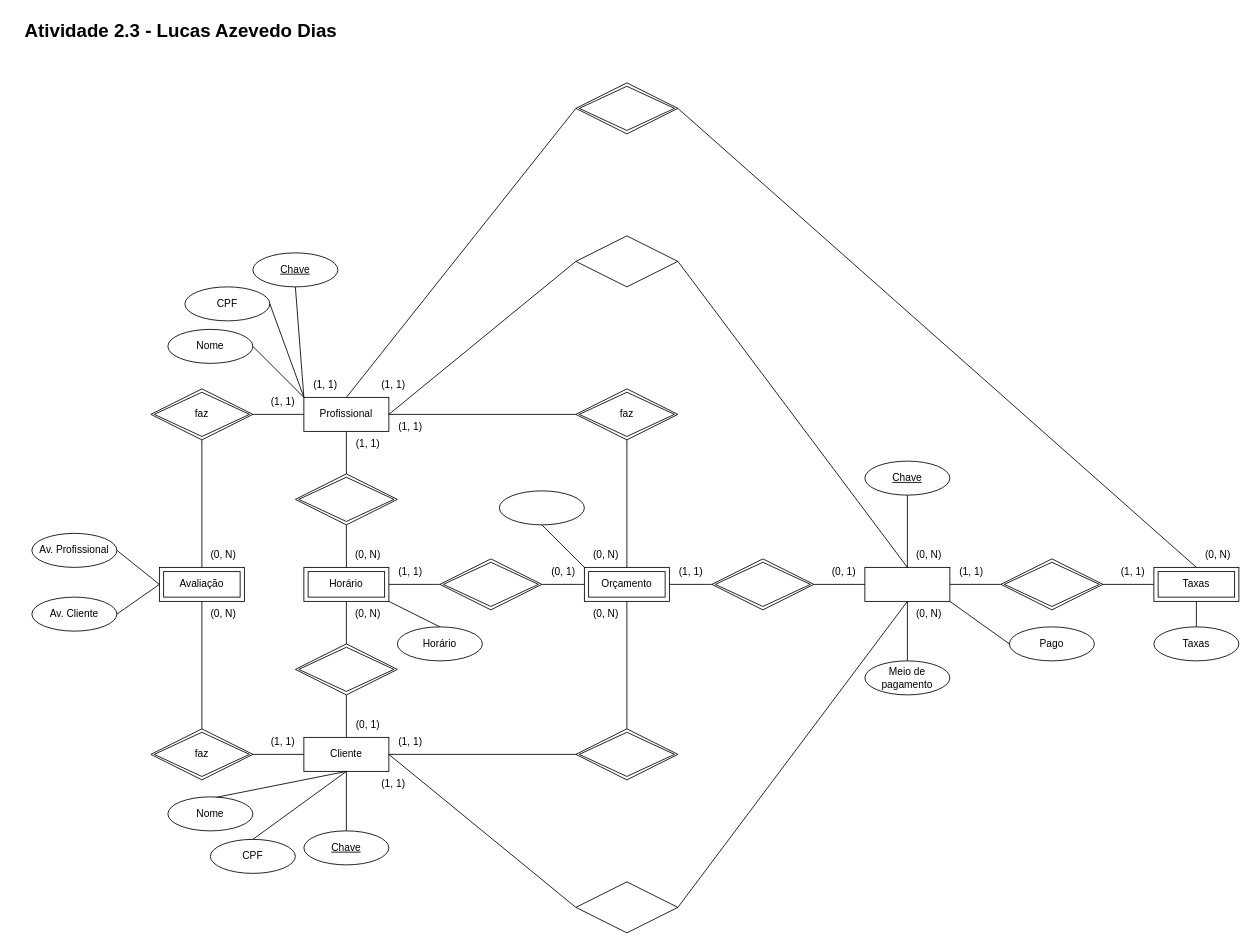
This 1254x948 diagram has some shape labels left out. Here are the shapes that lost their labels. From the top down, the box of each, then its label:
(575, 82, 678, 134): paga
(575, 235, 678, 287): reecebe
(295, 473, 397, 525): disponibiliza
(499, 490, 584, 525): Valor
(439, 558, 542, 610): possui
(711, 558, 814, 610): pertence
(864, 567, 950, 601): Transação
(1000, 558, 1103, 610): gera
(295, 643, 397, 695): agenda
(575, 728, 678, 780): requere
(575, 881, 678, 933): realiza
